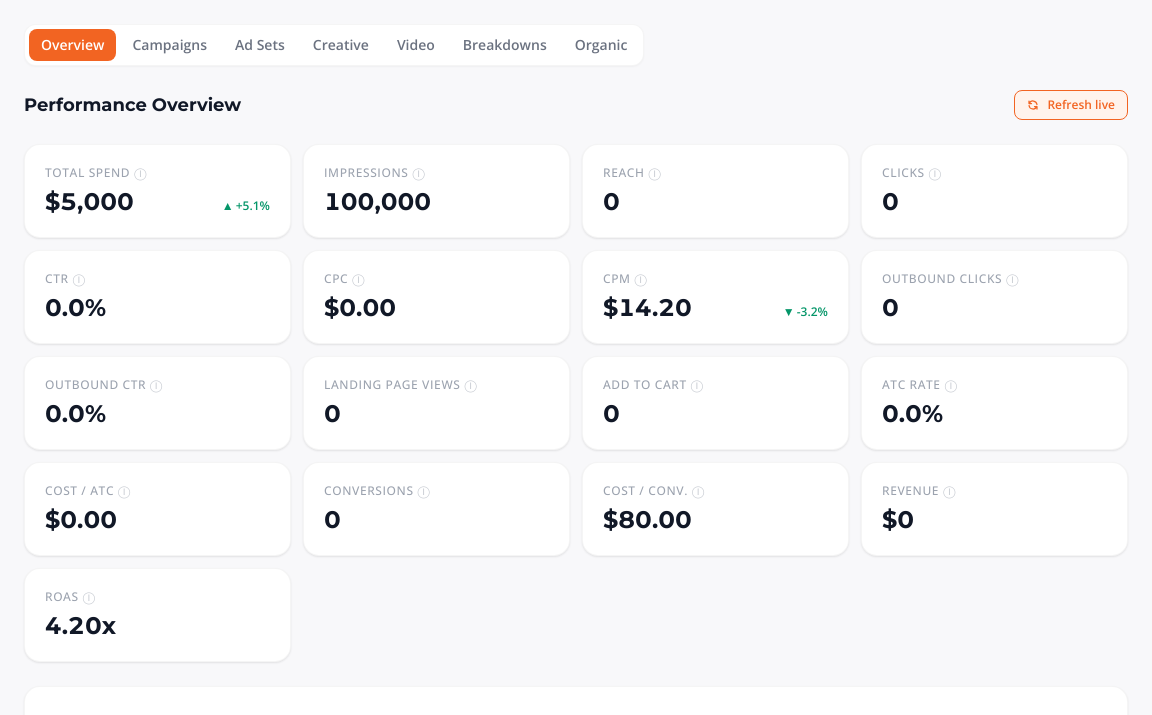
Test case: Creative sub-tab renders a creative card
This screenshot has width=1152, height=715.
Click the tab "Creative": (341, 45) top-left (301, 29), bottom-right (381, 61)
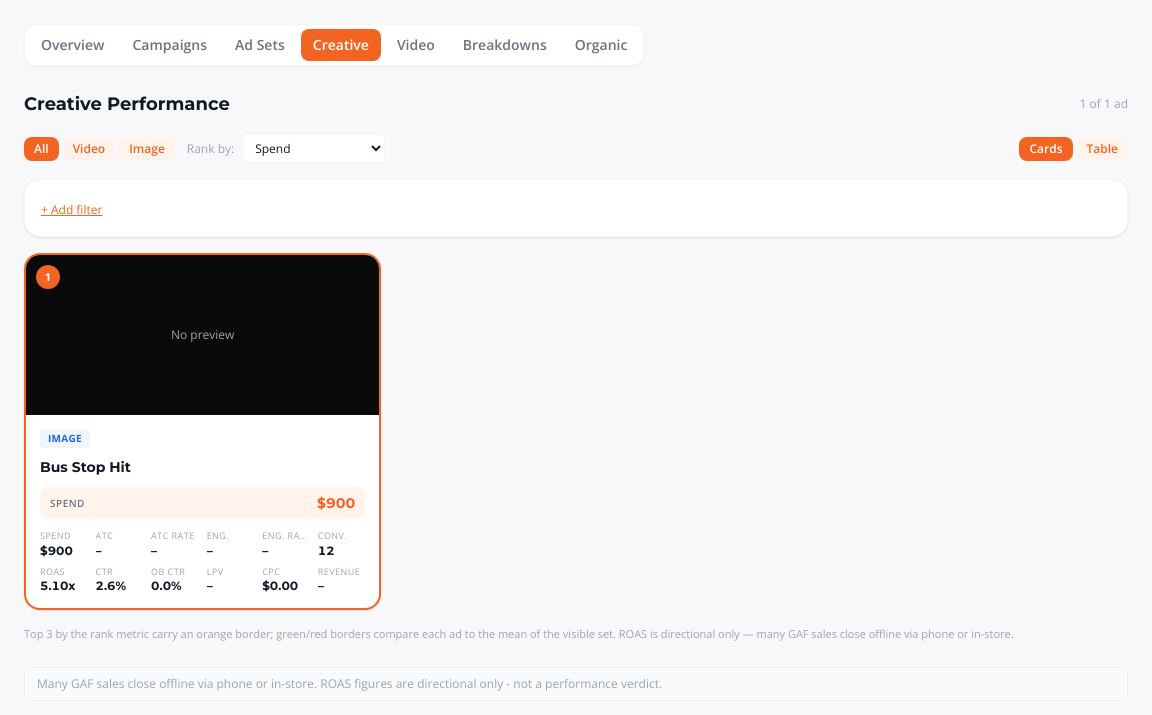
Check: the text "Bus Stop Hit" is shown, box top-left (40, 458), bottom-right (131, 476)
